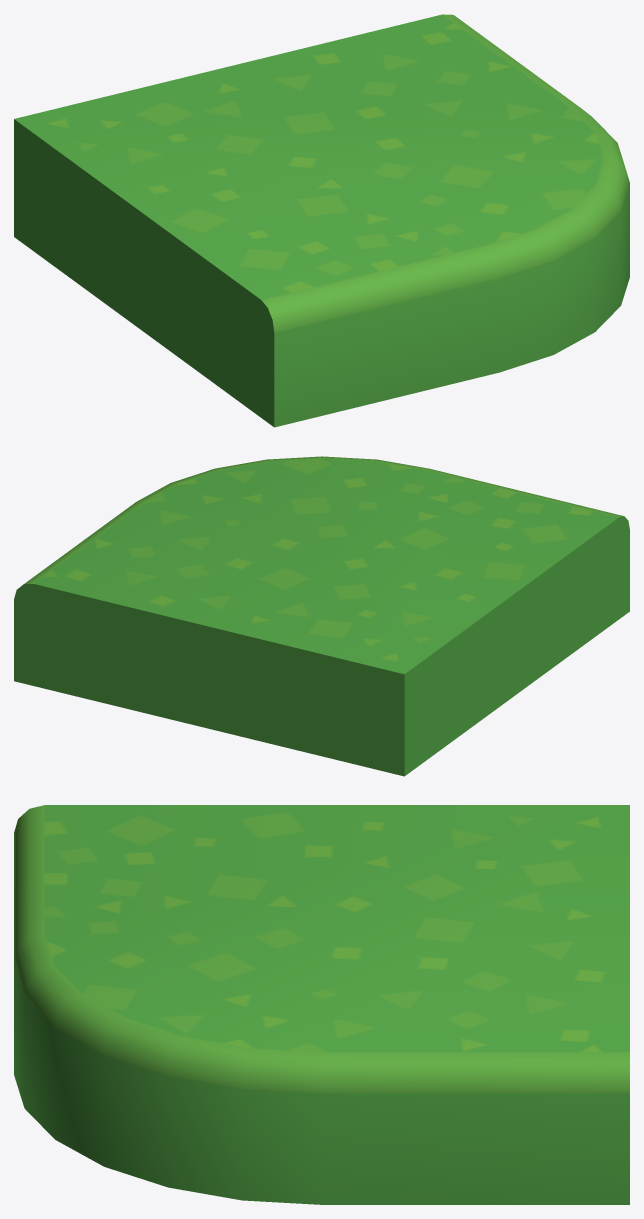
The model's file is floor-grass-sliced-i.glb.
3 views of the same model, one above another, from view 1: azimuth 30°, elevation 25°; view 2: azimuth 150°, elevation 25°; view 3: azimuth 270°, elevation 25° (orthographic). The views are drawn at different scales.
Visible parts, largest first — view 1: floor_grass_sliced_I; view 2: floor_grass_sliced_I; view 3: floor_grass_sliced_I.
Boxes of the visible parts, x1=… form: floor_grass_sliced_I: x1=14, y1=14, x2=629, y2=427; floor_grass_sliced_I: x1=14, y1=456, x2=629, y2=776; floor_grass_sliced_I: x1=14, y1=805, x2=629, y2=1204.
Bounding box in the file's own units: 2 × 0.5 × 2.
Materials: 1 (1 with a texture image).
